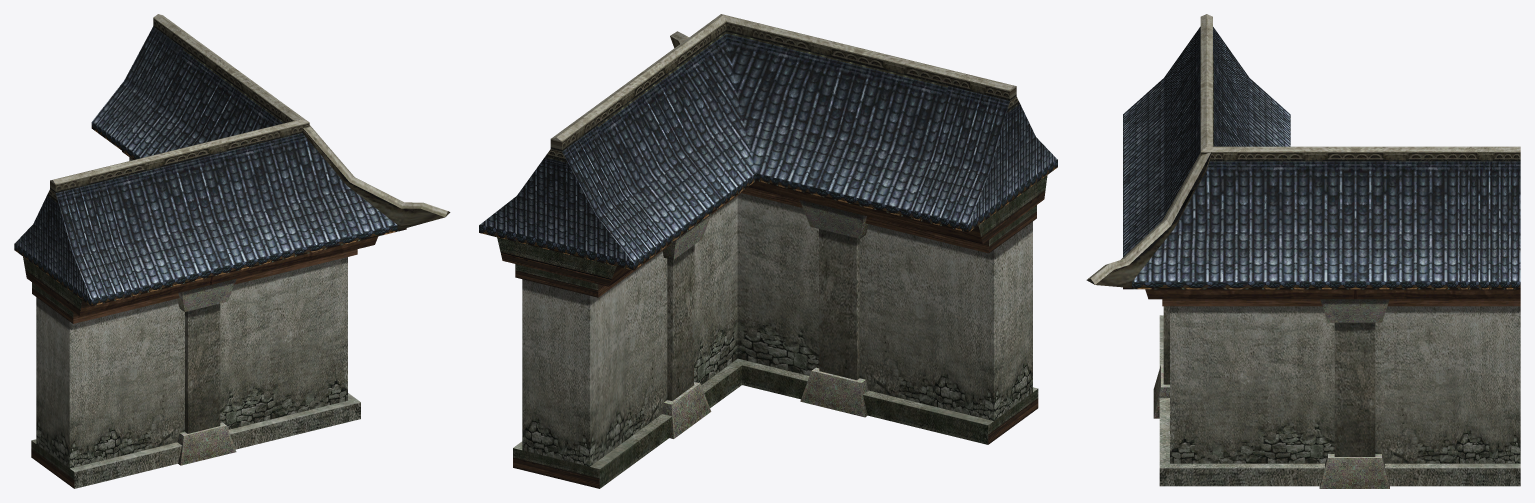
Rendered from a1-038-wall-corner.fbx.
3 views of the same model, side by side, from view 1: azimuth 30°, elevation 25°; view 2: azimuth 150°, elevation 25°; view 3: azimuth 270°, elevation 25° (orthographic). The views are drawn at different scales.
Parts seen in each view (by area): view 1: a1-038-wall; view 2: a1-038-wall; view 3: a1-038-wall.
Boxes of the visible parts, bbox=[...] form: a1-038-wall: bbox=[14, 14, 450, 488]; a1-038-wall: bbox=[479, 14, 1057, 488]; a1-038-wall: bbox=[1086, 14, 1520, 488].
Bounding box in the file's own units: 5.56 × 4.5 × 5.54.
